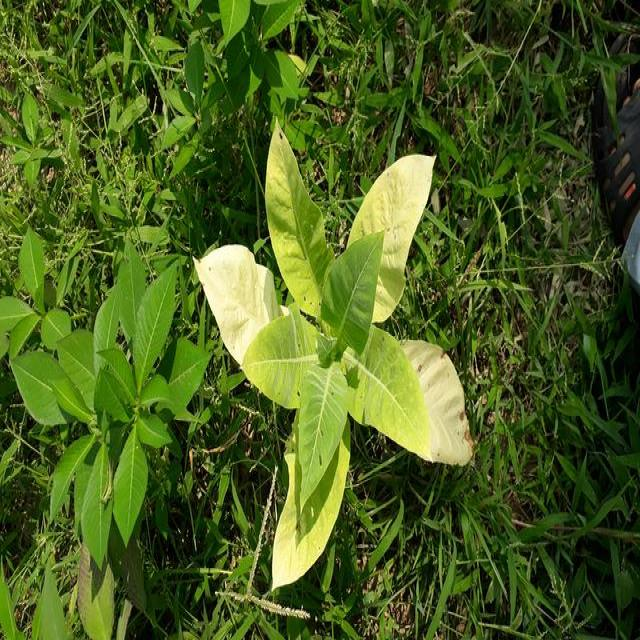crop: (198, 118, 477, 590)
